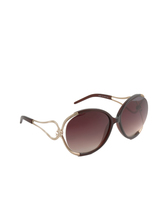glasses: (20, 89, 150, 157)
